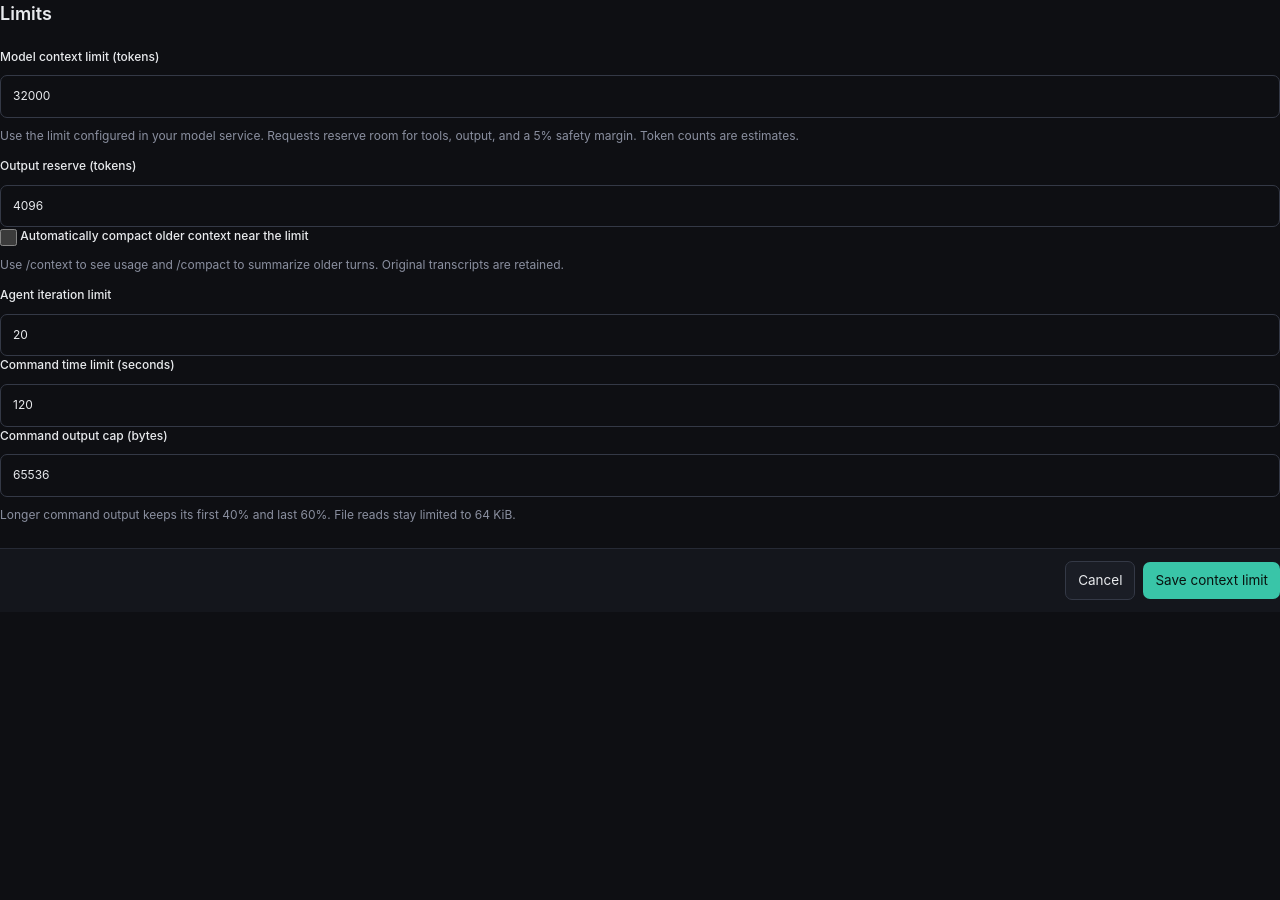
Scenario: memory management › cancels an invalid context limit edit
This screenshot has width=1280, height=900.
Replace the text in the number field labelled "Model context limit (tokens)" with "1000" at (640, 97), box [0,76,1279,118]
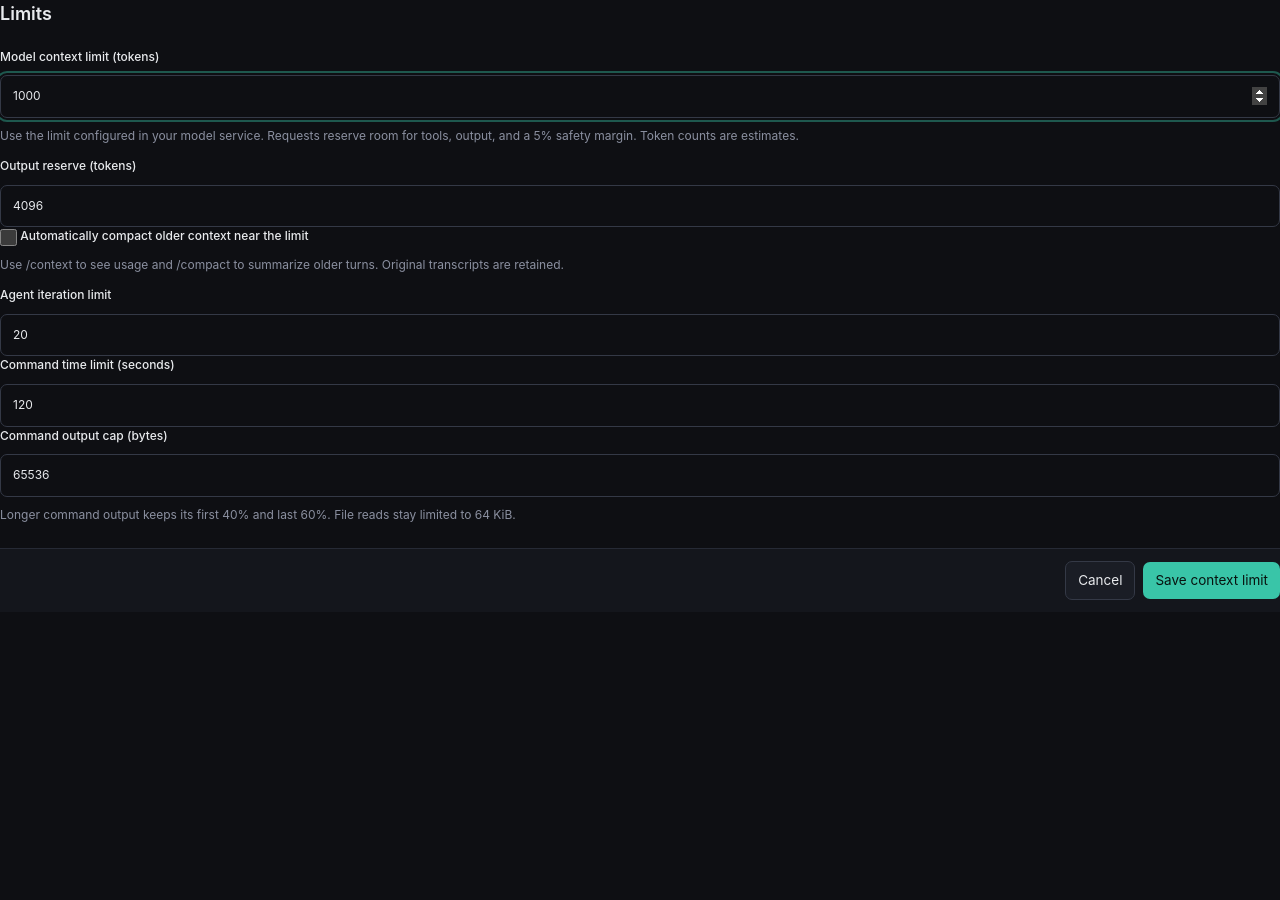
Expected: the button "Save context limit" is disabled, [1143,562,1279,599]
Click the button "Cancel".
click(1100, 580)  # box [1065,561,1135,600]
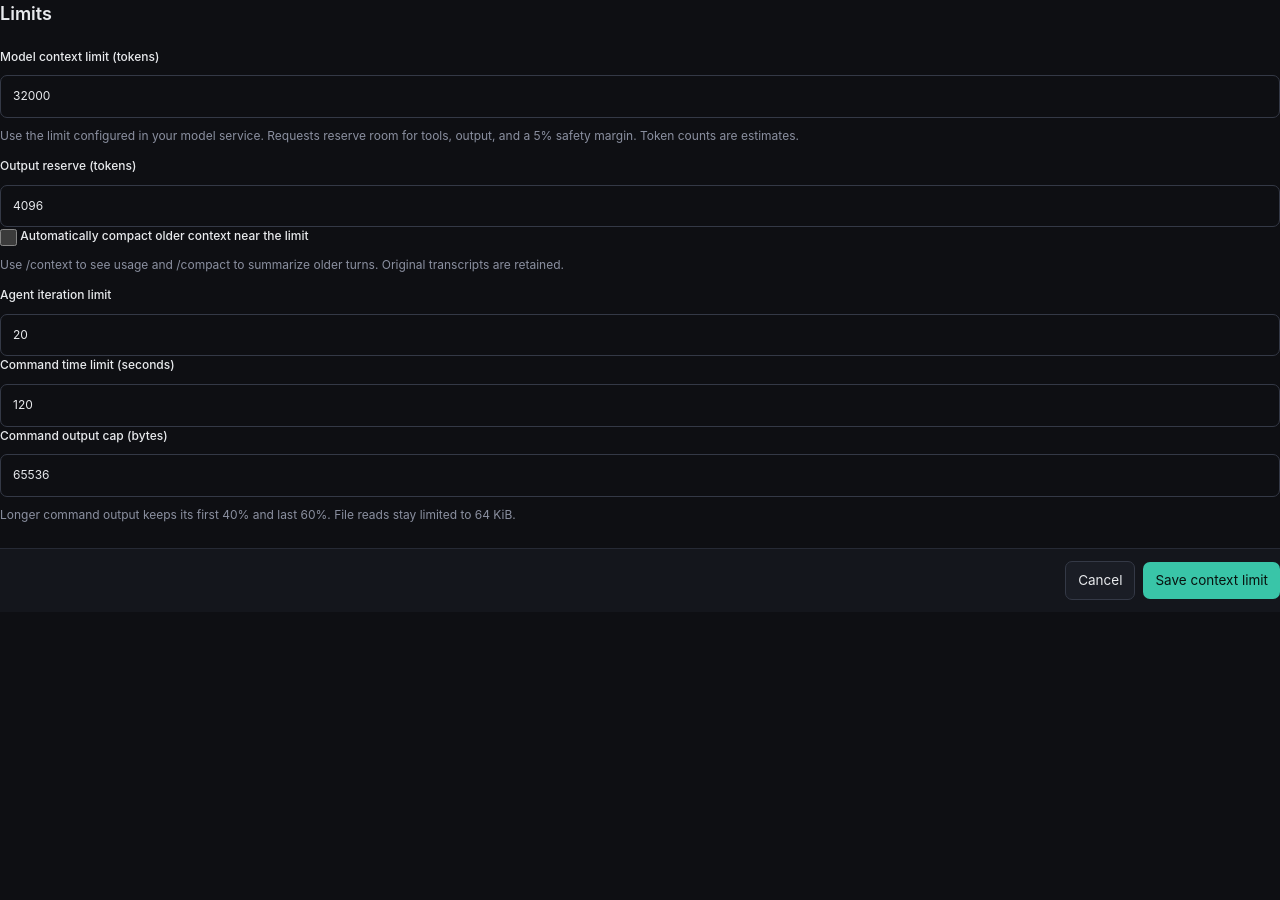
Result: the number field labelled "Model context limit (tokens)" holds "32000" at [0,76,1279,118]
